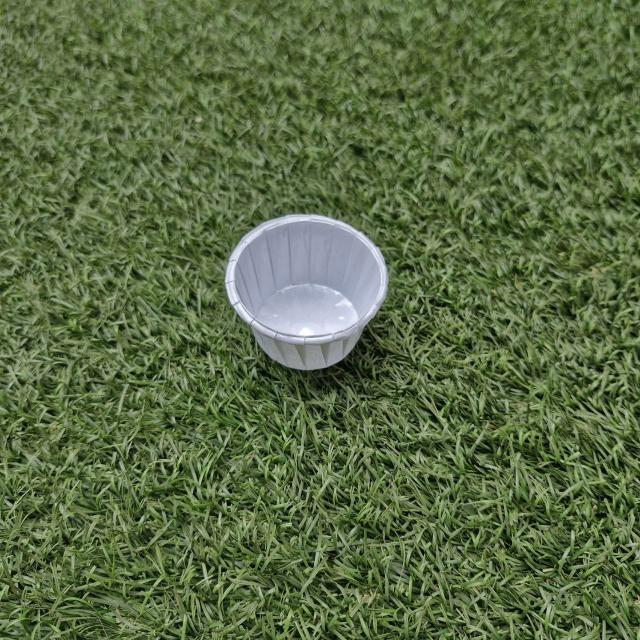paper: (212, 199, 396, 377)
